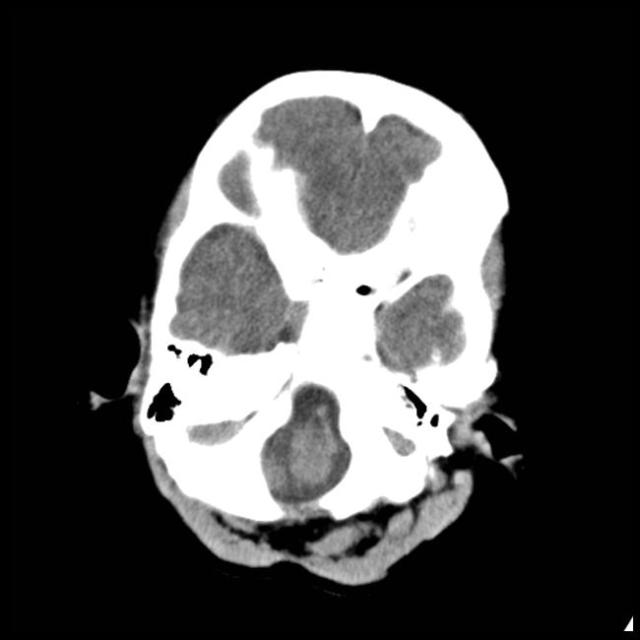lesion: (117, 66, 526, 585)
